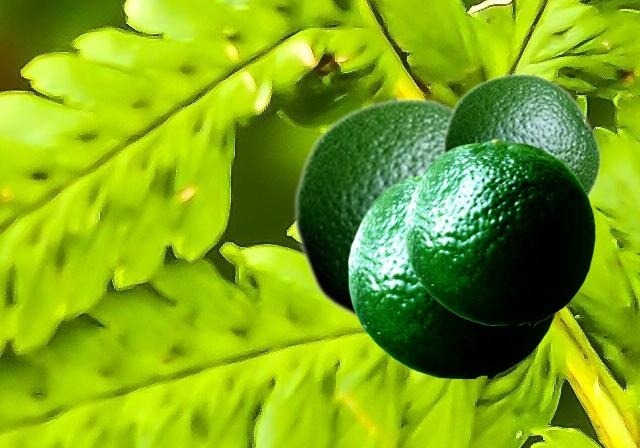calamansi: (348, 173, 557, 377), (292, 96, 453, 321), (405, 138, 594, 324), (441, 72, 601, 199)
